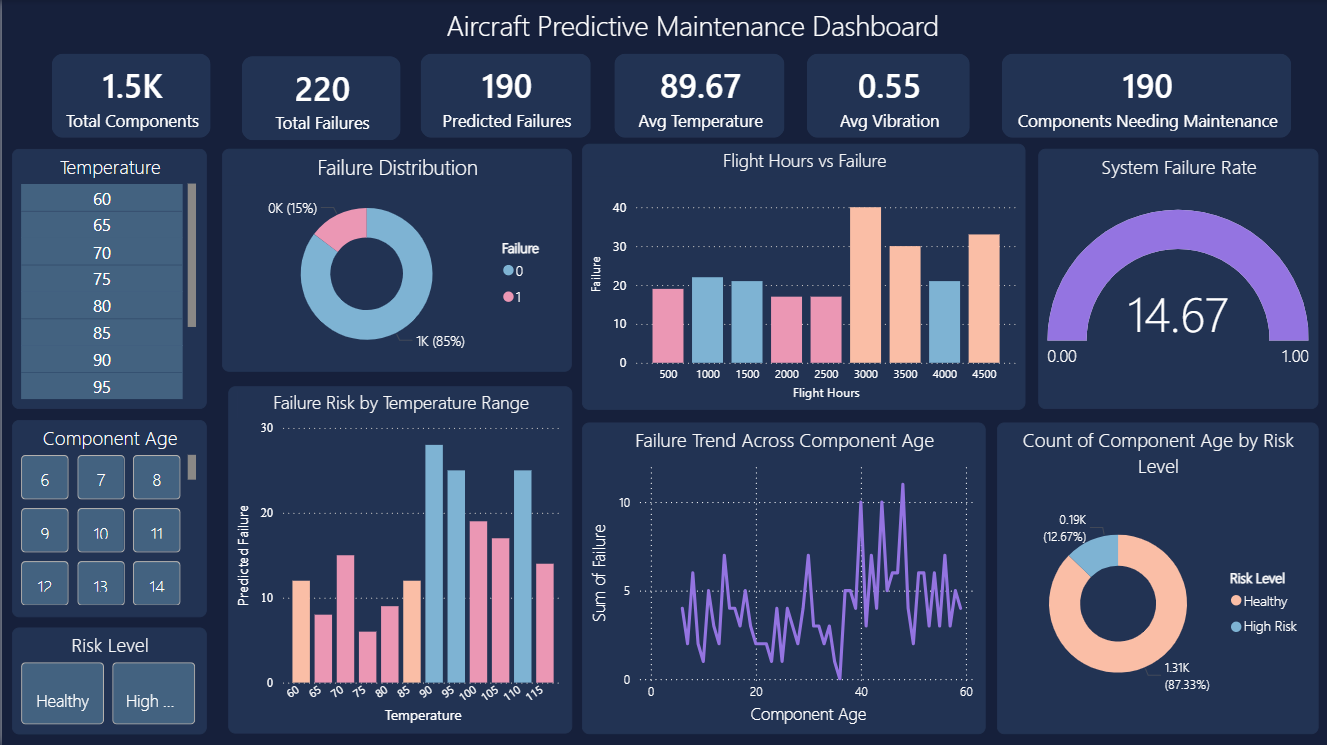

Layout of this report page (visuals, bound fields, positions):
{"tool":"powerbi","page":{"name":"Page 1","canvas":[1280,720],"ordinal":0},"visuals":[{"type":"textbox","title":"Aircraft Predictive Maintenance Dashboard","box":[399.3,6,534.5,35],"z":0},{"type":"cardVisual","fields":{"Data":["CountNonNull(maintenance_powerbi (2).Failure)"]},"box":[43.9,46.7,163.3,91.9],"z":1000},{"type":"cardVisual","fields":{"Data":["Sum(maintenance_powerbi (2).Failure)"]},"box":[226.4,49.4,163.3,91.9],"z":2000},{"type":"cardVisual","fields":{"Data":["Avg(maintenance_powerbi (2).Temperature)"]},"box":[585.9,46.7,174.3,91.9],"z":3000},{"type":"donutChart","title":"Failure Distribution","fields":{"Category":["maintenance_powerbi (2).Failure"],"Y":["CountNonNull(maintenance_powerbi (2).Failure)"]},"box":[212.7,144.1,337.6,215.4],"z":4000},{"type":"clusteredColumnChart","title":"Flight Hours vs Failure","fields":{"Category":["maintenance_powerbi (2).Flight_Hours (bins)"],"Y":["Sum(maintenance_powerbi (2).Failure)"]},"box":[559.9,138.6,428.1,256.6],"z":5000},{"type":"columnChart","title":"Failure Risk by Temperature Range","fields":{"Y":["Sum(maintenance_powerbi (2).Predicted_Failure)"],"Category":["maintenance_powerbi (2).Temperature (bins)"]},"box":[218.2,373.2,332.1,334.8],"z":6000},{"type":"cardVisual","fields":{"Data":["Sum(maintenance_powerbi (2).Predicted_Failure)"]},"box":[399.3,46.7,174.3,91.9],"z":7000},{"type":"cardVisual","fields":{"Data":["Avg(maintenance_powerbi (2).Vibration)"]},"box":[772.6,46.7,167.4,91.9],"z":8000},{"type":"lineChart","title":"Failure Trend Across Component Age","fields":{"Category":["maintenance_powerbi (2).Component_Age"],"Y":["Sum(maintenance_powerbi (2).Failure)"]},"box":[559.9,407.5,389.7,300.5],"z":9000},{"type":"donutChart","title":"Count of Component Age by Risk Level","fields":{"Category":["maintenance_powerbi (2).Risk_Level"],"Y":["CountNonNull(maintenance_powerbi (2).Component_Age)"]},"box":[960.6,407.5,310.1,300.5],"z":10000},{"type":"gauge","title":"System Failure Rate","fields":{"Y":["maintenance_powerbi (2).Failure Rate %"]},"box":[1000.3,144.1,270.3,251.1],"z":11000},{"type":"advancedSlicerVisual","title":"Component Age","fields":{"Values":["maintenance_powerbi (2).Component_Age"]},"box":[9.6,404.8,188,190.7],"z":12000},{"type":"listSlicer","title":"Temperature","fields":{"Values":["maintenance_powerbi (2).Temperature (bins)"]},"box":[9.6,144.1,188,251.1],"z":13000},{"type":"advancedSlicerVisual","title":"Risk Level","fields":{"Values":["maintenance_powerbi (2).Risk_Level"]},"box":[9.6,605.1,188,102.9],"z":14000},{"type":"cardVisual","fields":{"Data":["maintenance_powerbi (2).High Risk Count"]},"box":[960.6,46.7,289.5,91.9],"z":15000}]}

Visuals, with their boxes in screenshot pixels (x1, y1, x2, y2), scaled from the page's 1280x720 canvas onto the 1327x745 screenshot:
"Aircraft Predictive Maintenance Dashboard" textbox: (414,6,968,42)
cardVisual - CountNonNull(maintenance_powerbi (2).Failure): (46,48,215,143)
cardVisual - Sum(maintenance_powerbi (2).Failure): (235,51,404,146)
cardVisual - Avg(maintenance_powerbi (2).Temperature): (607,48,788,143)
"Failure Distribution" donutChart: (221,149,571,372)
"Flight Hours vs Failure" clusteredColumnChart: (580,143,1024,409)
"Failure Risk by Temperature Range" columnChart: (226,386,571,733)
cardVisual - Sum(maintenance_powerbi (2).Predicted_Failure): (414,48,595,143)
cardVisual - Avg(maintenance_powerbi (2).Vibration): (801,48,975,143)
"Failure Trend Across Component Age" lineChart: (580,422,984,733)
"Count of Component Age by Risk Level" donutChart: (996,422,1317,733)
"System Failure Rate" gauge: (1037,149,1317,409)
"Component Age" advancedSlicerVisual: (10,419,205,616)
"Temperature" listSlicer: (10,149,205,409)
"Risk Level" advancedSlicerVisual: (10,626,205,733)
cardVisual - maintenance_powerbi (2).High Risk Count: (996,48,1296,143)
